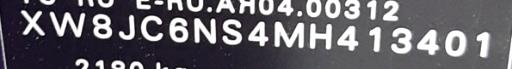letter: (46, 9, 88, 38), (269, 20, 305, 51), (385, 23, 413, 58), (469, 26, 499, 57), (440, 24, 468, 57), (336, 20, 360, 57), (306, 20, 334, 51), (166, 13, 192, 46), (414, 23, 438, 58), (19, 8, 47, 37), (87, 10, 115, 39), (138, 13, 166, 42), (193, 15, 219, 46), (219, 15, 243, 48), (363, 24, 385, 57), (244, 19, 268, 48), (117, 12, 137, 41)
